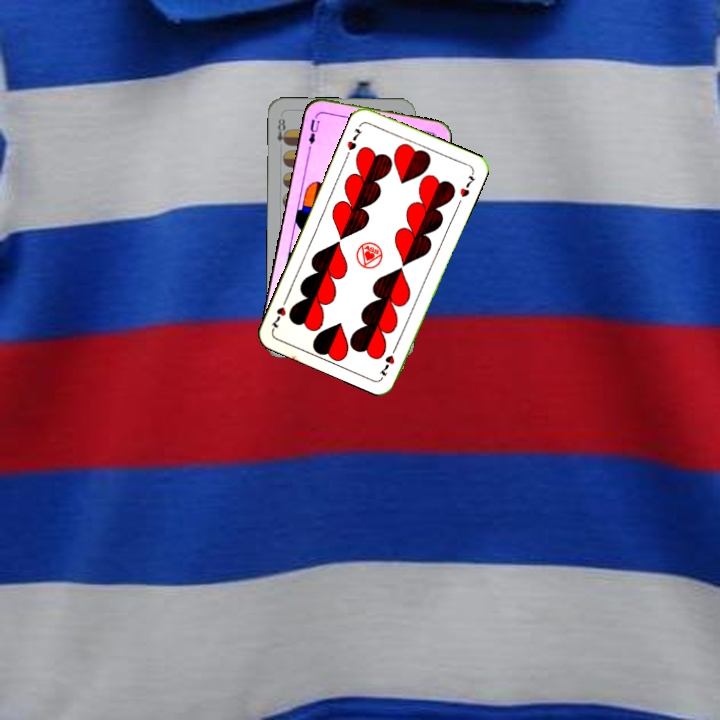E8: (273, 114, 290, 147)
EU: (304, 111, 322, 147)
H7: (376, 341, 400, 379), (343, 124, 365, 153)
